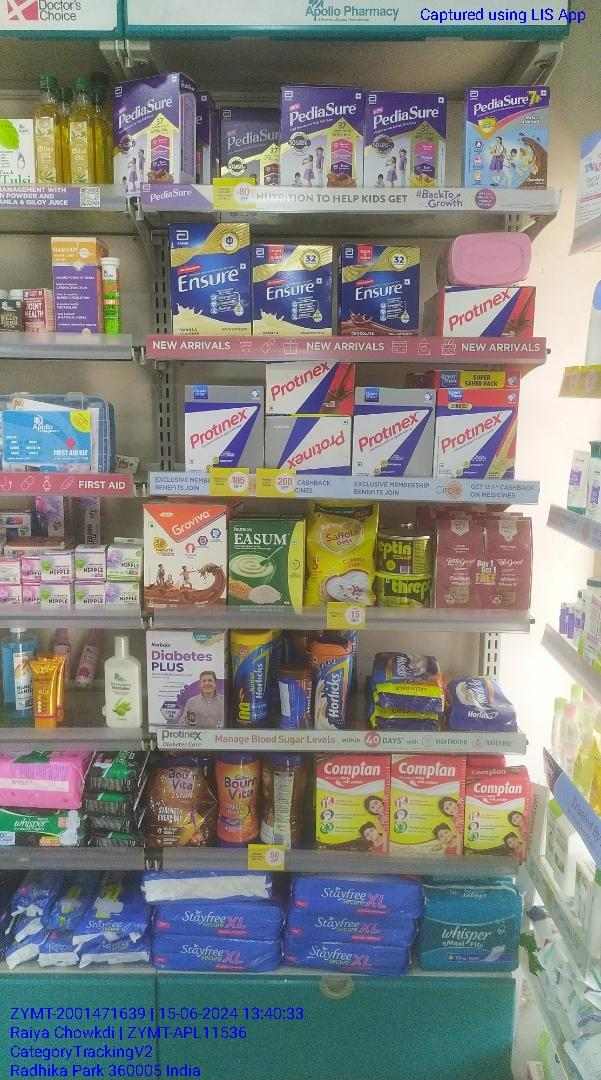BOURN_VITA_500_G_JAR: (216, 751, 259, 845)
BOURN_VITA_FIVE_STAR_MAGIC_500_G_POUCH: (148, 762, 213, 847)
COMPLAN_CHOCOLATE_200_GMS_PACK: (466, 779, 527, 857)
COMPLAN_CHOCOLATE_500_GMS_PACK: (317, 755, 388, 853)
COMPLAN_KESAR_BADAM_500_GMS_PACK: (391, 754, 462, 857)
ENSURE_VANILLA_400_G_PACK: (170, 223, 251, 338)
HORLICK_CHOCOLATE_200_G_JAR: (279, 665, 313, 730)
HORLICK_CLASSIC_MALT_500_G_JAR: (315, 643, 348, 729)
PEDIASURE_7_PLUS_CHOCOLATE_400_G_PACK: (468, 85, 547, 190)
PEDIASURE_CHOCOLATE_500_G_PACK: (281, 87, 362, 187), (113, 77, 180, 183)
